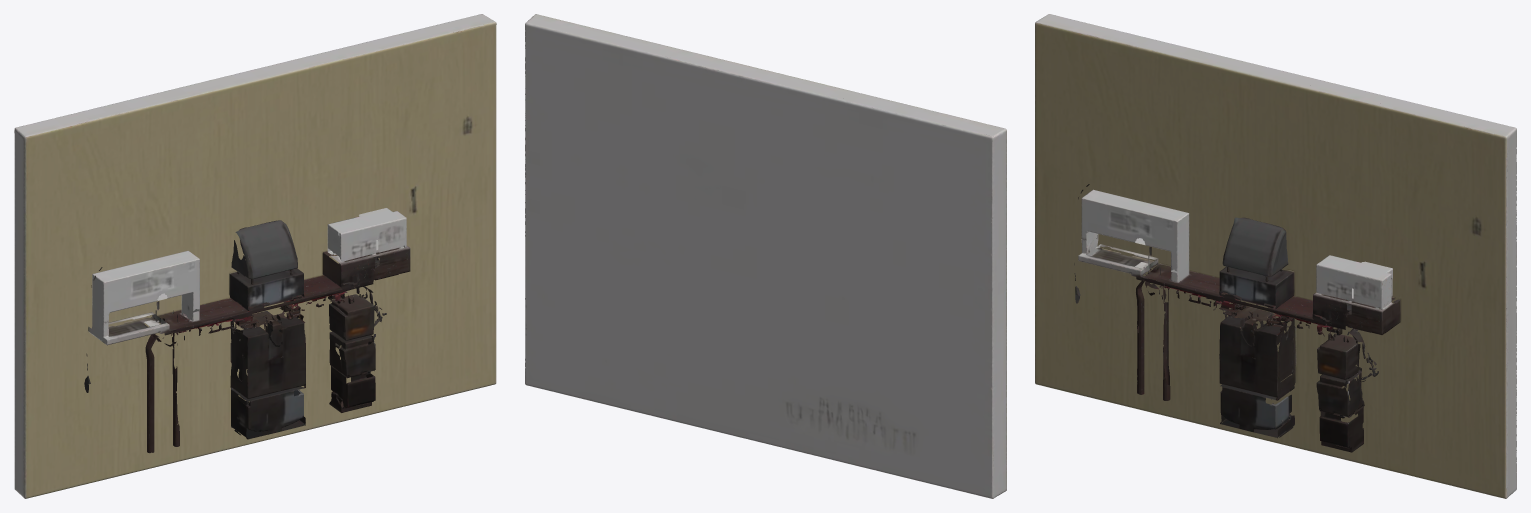
File: bathroom_left_wall.raw.glb
3 renders of one model, left to right at view 1: azimuth 30°, elevation 25°; view 2: azimuth 150°, elevation 25°; view 3: azimuth 330°, elevation 25°, orthographic.
Parts seen in each view (by area): view 1: world; view 2: world; view 3: world.
Boxes of the visible parts, bbox=[...] form: world: bbox=[14, 14, 496, 498]; world: bbox=[525, 14, 1006, 498]; world: bbox=[1035, 14, 1516, 498].
Size of the model in its own units: 1 by 0.7343 by 0.1182.
1 material, 1 textured.
